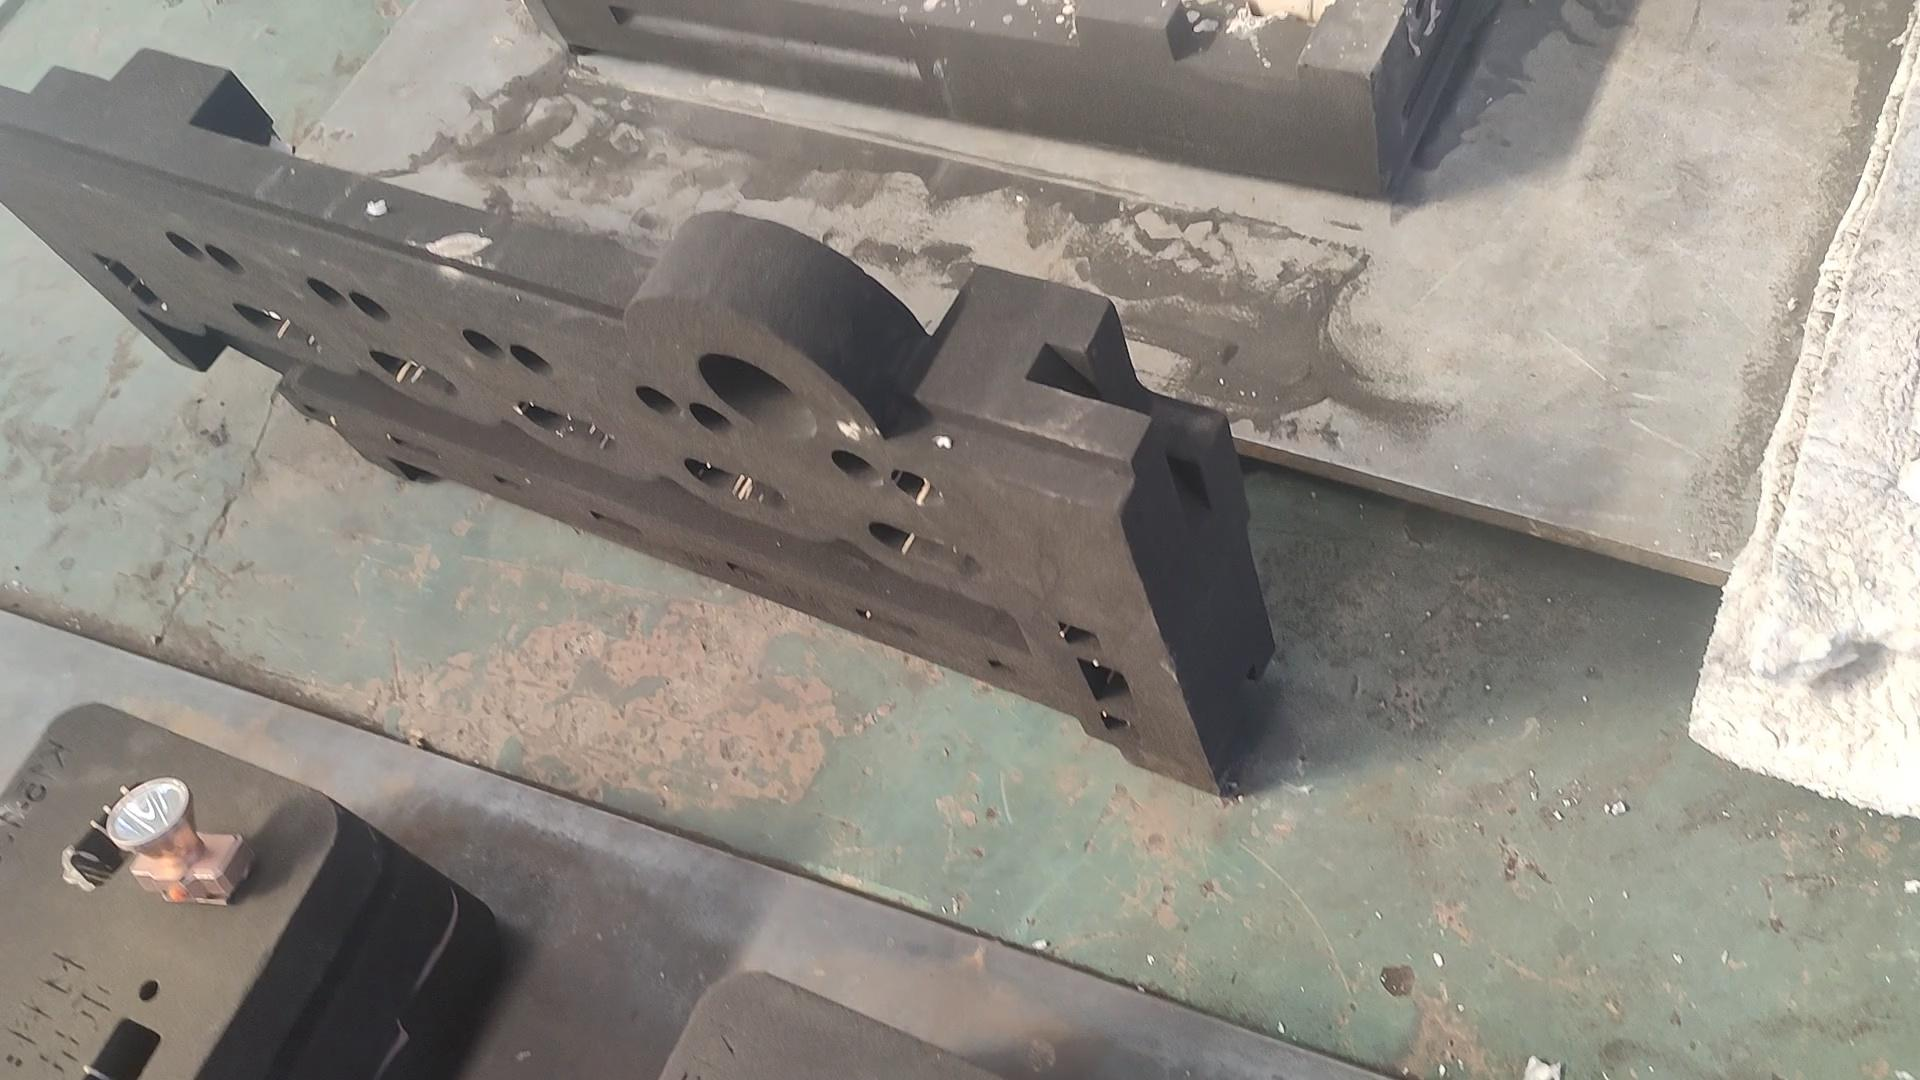pouring hole: (698, 352, 819, 443)
